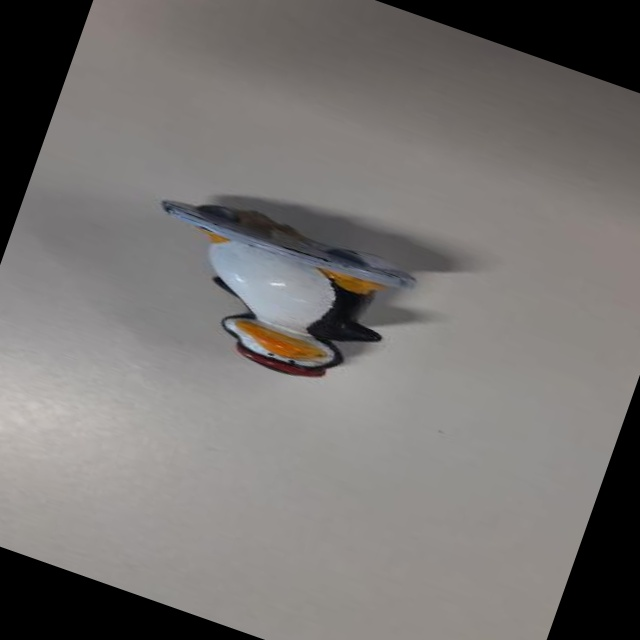Penguin: (130, 184, 422, 412)
